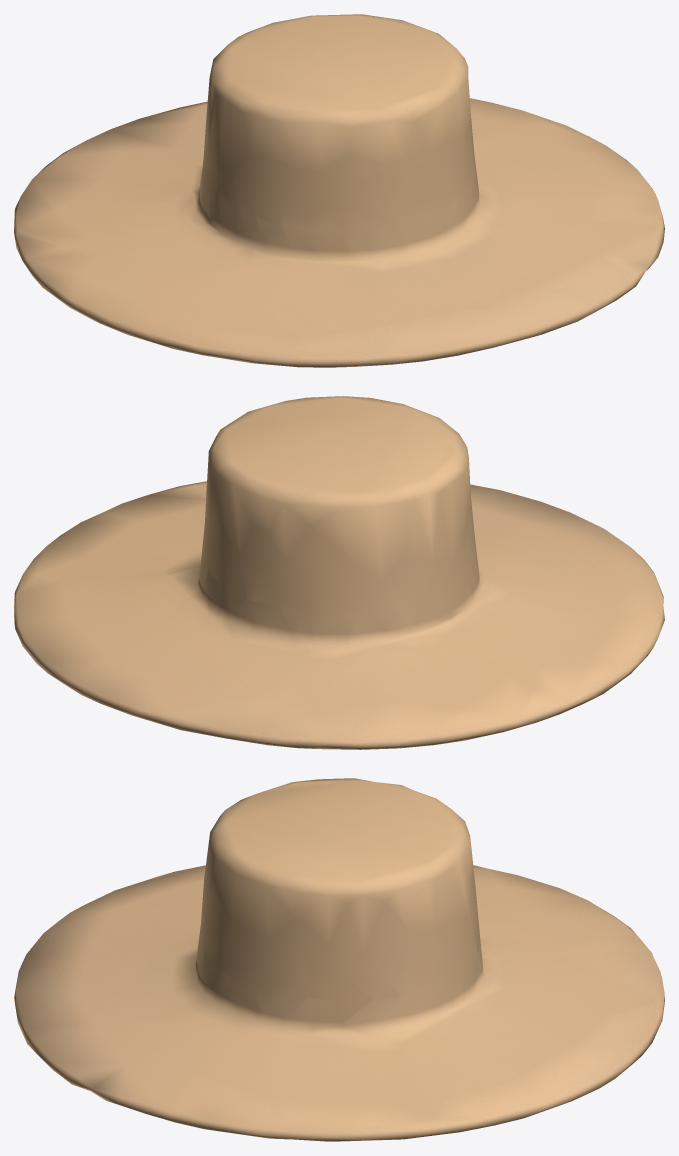
The model's file is hat.fbx.
The picture shows the model from 3 angles, top to bottom: view 1: azimuth 30°, elevation 25°; view 2: azimuth 150°, elevation 25°; view 3: azimuth 270°, elevation 25°; orthographic projection. The views are drawn at different scales.
Parts seen in each view (by area): view 1: hat; view 2: hat; view 3: hat.
Part boxes in pixels (x1,y1,x2,y2): hat: (14,14,664,367); hat: (14,396,664,749); hat: (14,778,664,1141).
Size of the model in its own units: 0.6808 by 0.1952 by 0.6629.
Materials: 1 (1 with a texture image).
